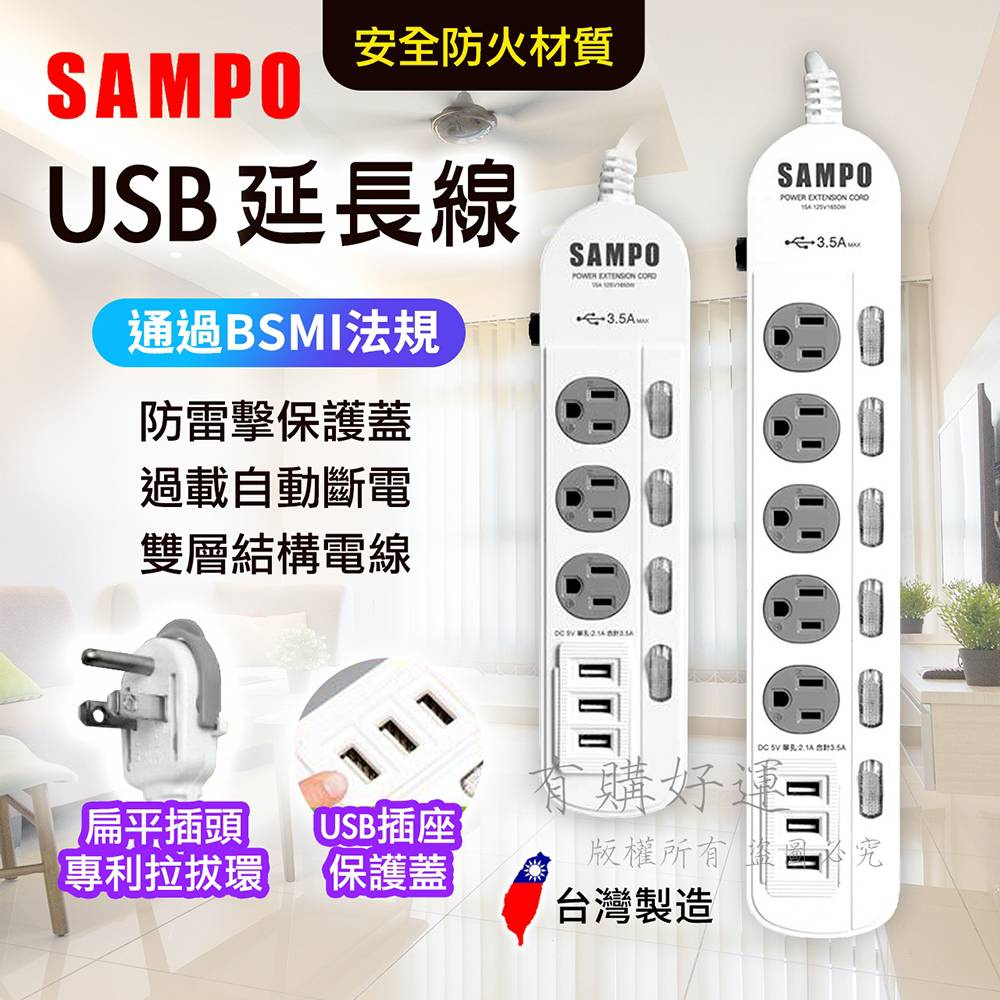socket: (734, 71, 903, 942), (530, 148, 690, 821)
